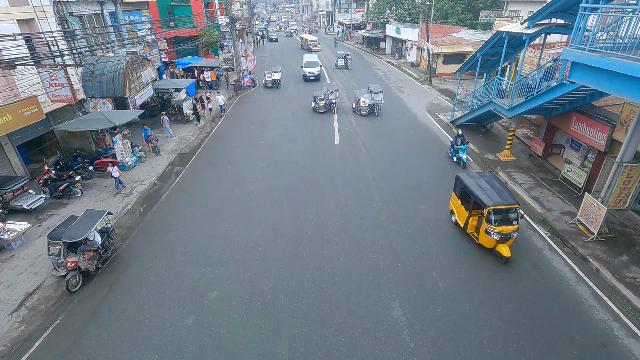car: (287, 21, 298, 33), (267, 31, 278, 42)
jeepney: (298, 33, 322, 52)
motorcycle: (446, 131, 470, 167), (258, 25, 269, 36), (333, 35, 338, 47), (283, 24, 287, 33), (302, 23, 305, 32)
van: (301, 53, 322, 82)
